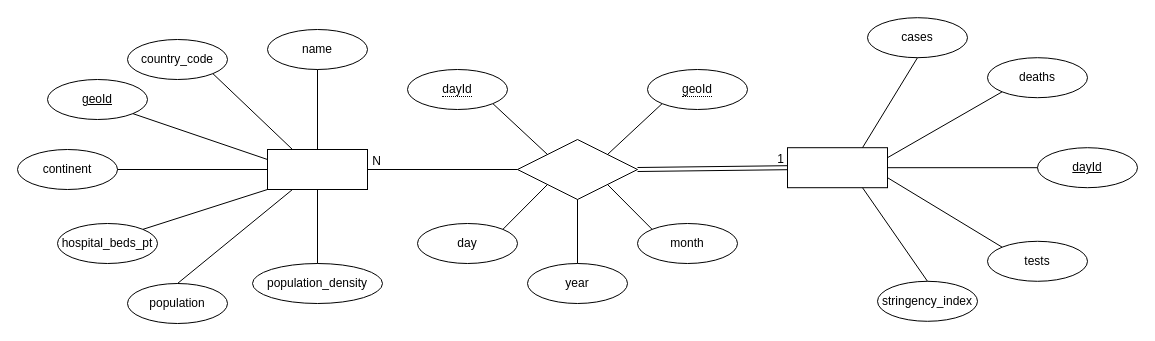
Some shapes in this 1155 by 341 pixel diagram are drawn without their labels. The centre of each missing label's shape, as x and y in pixels:
Country: the point at 317,169
Day Data: the point at 837,167
has: the point at 577,169
